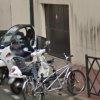Bicycle: (20, 50, 85, 99)
